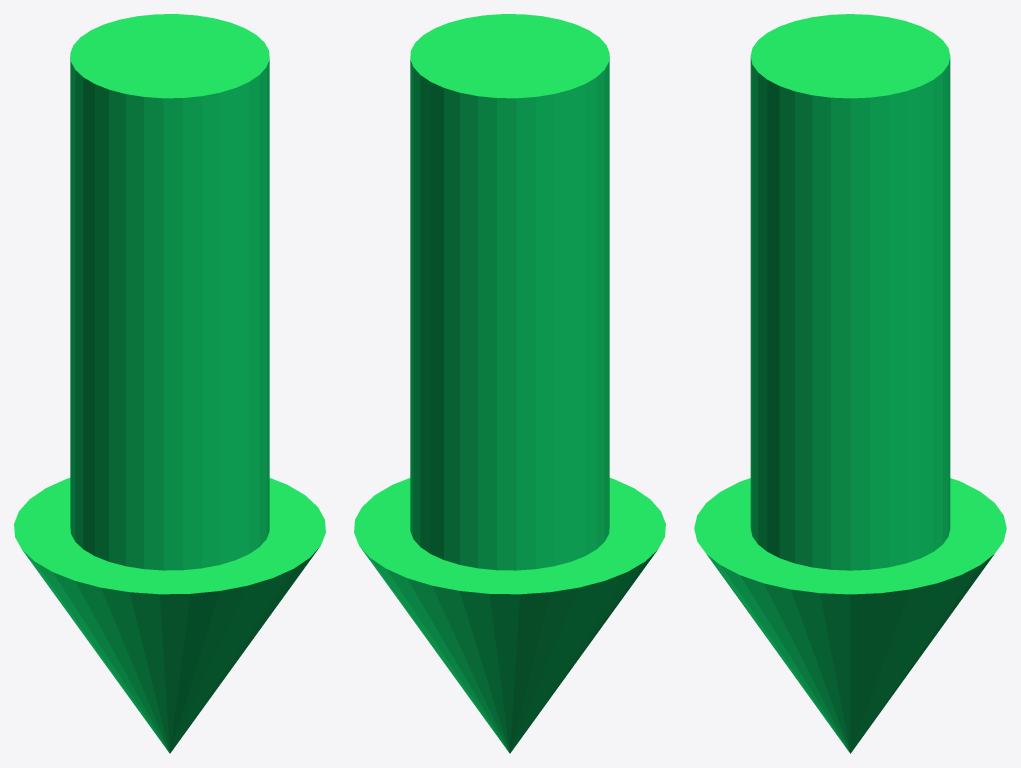
File: green.obj
The picture shows the model from 3 angles, left to right: view 1: azimuth 30°, elevation 25°; view 2: azimuth 150°, elevation 25°; view 3: azimuth 270°, elevation 25°; orthographic projection.
Visible parts, largest first — view 1: Cone; view 2: Cone; view 3: Cone.
Boxes of the visible parts, x1=… form: Cone: x1=14, y1=14, x2=325, y2=753; Cone: x1=354, y1=14, x2=665, y2=753; Cone: x1=694, y1=14, x2=1006, y2=753.
Bounding box in the file's own units: 0.8313 × 2.05 × 0.8313.
1 material, 1 textured.
